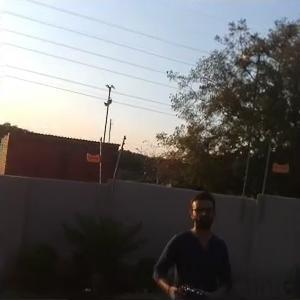follow: (149, 184, 240, 299)
